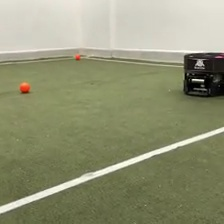ball: (18, 79, 31, 93), (73, 51, 81, 60)
robot: (181, 50, 224, 97)
